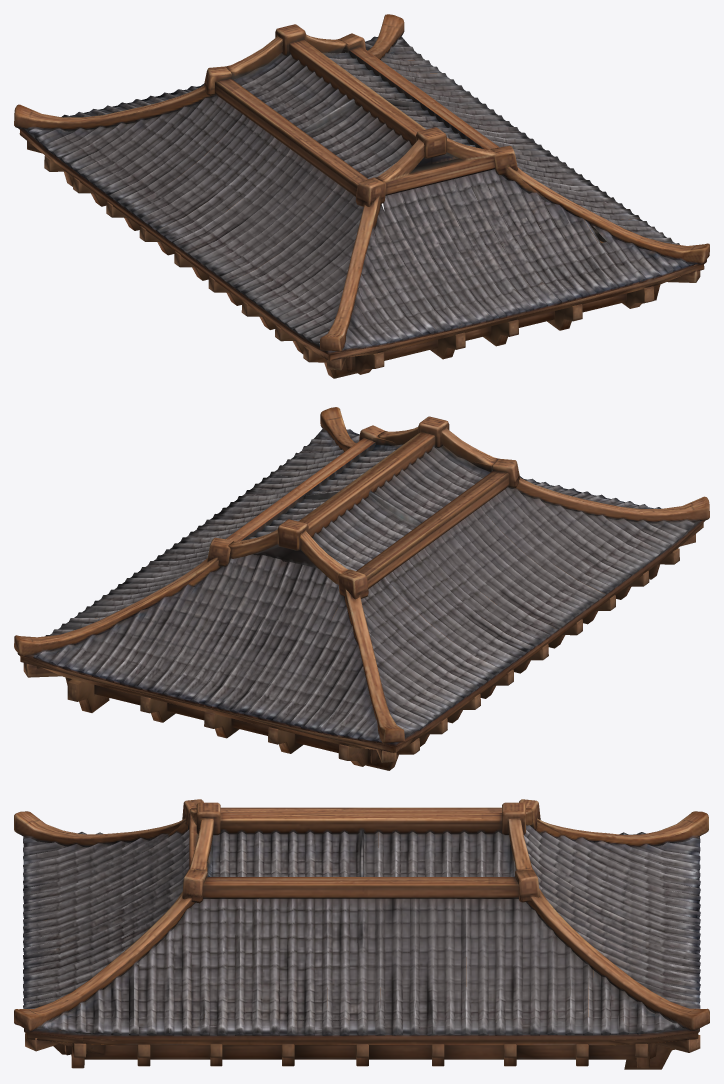
File: MainDojo_Roof_TripoSource.glb
3 renders of one model, top to bottom at view 1: azimuth 30°, elevation 25°; view 2: azimuth 150°, elevation 25°; view 3: azimuth 270°, elevation 25°, orthographic. The views are drawn at different scales.
Visible parts, largest first — view 1: tripo_node_9c60ce6e-f054-4685-9268-15761; view 2: tripo_node_9c60ce6e-f054-4685-9268-15761; view 3: tripo_node_9c60ce6e-f054-4685-9268-15761.
Part boxes in pixels (x1=…): tripo_node_9c60ce6e-f054-4685-9268-15761: x1=14, y1=14, x2=709, y2=378; tripo_node_9c60ce6e-f054-4685-9268-15761: x1=14, y1=407, x2=709, y2=770; tripo_node_9c60ce6e-f054-4685-9268-15761: x1=14, y1=799, x2=709, y2=1069.
Bounding box in the file's own units: 0.703 × 0.2956 × 1.
1 material, 1 textured.
